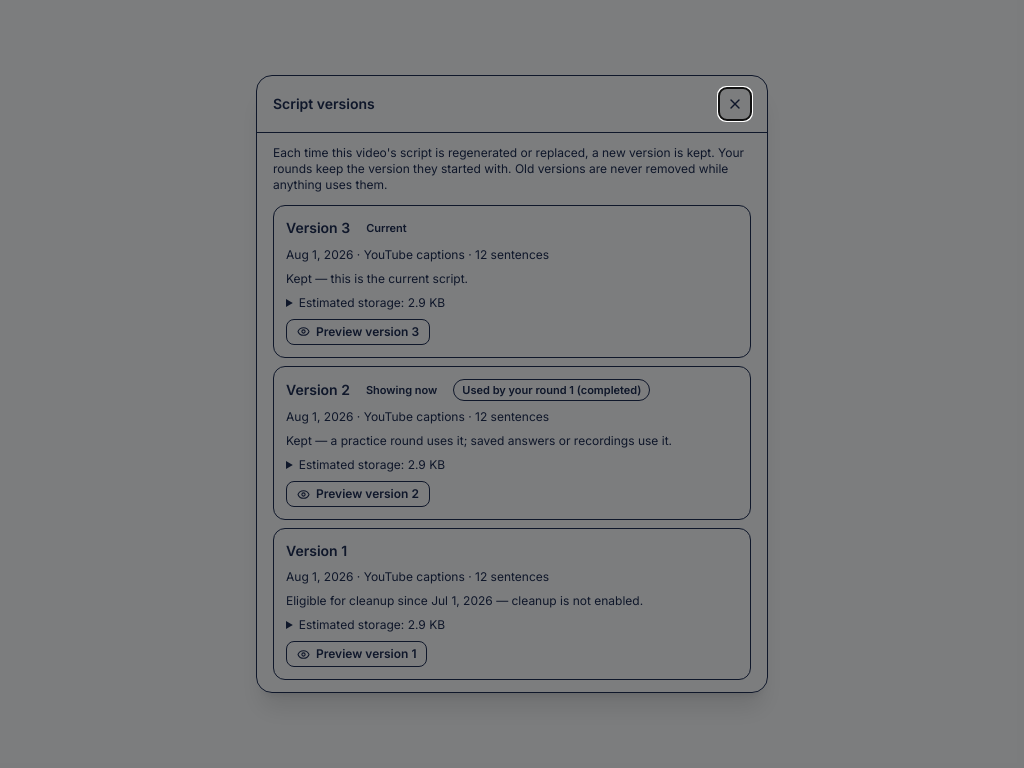
ScriptVersionsDialog › Preview is a read-only fetch of that version's sentences; it can be hidden again
Click the button "Preview version 1": (357, 654) top-left (286, 641), bottom-right (428, 667)
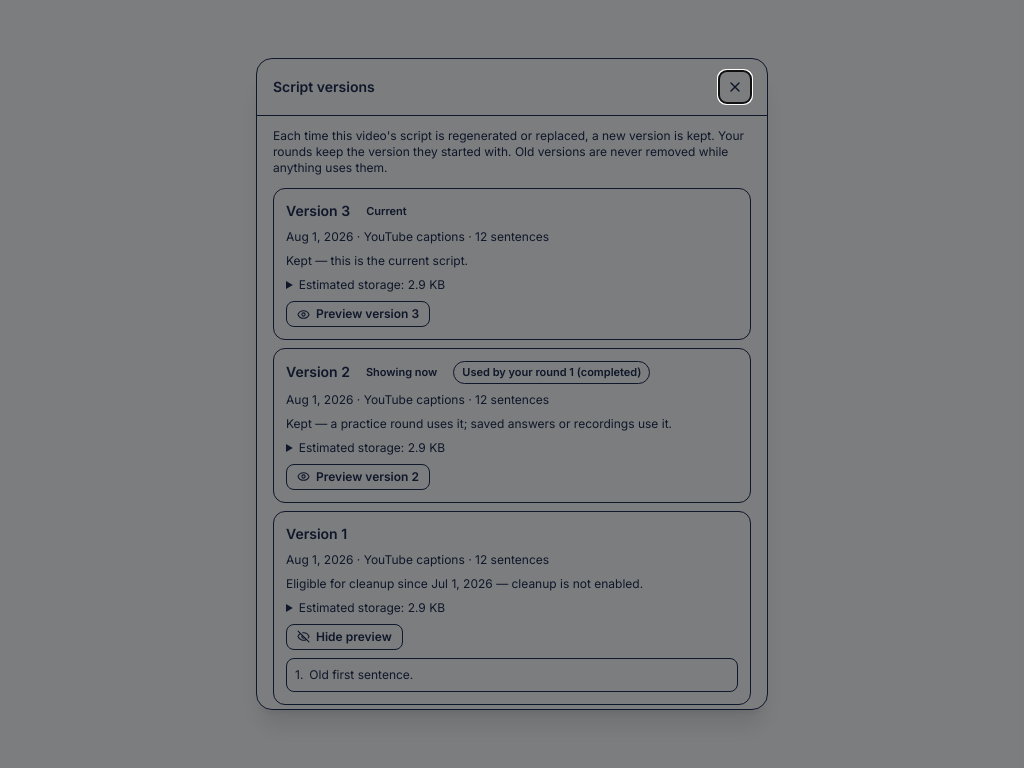
Expected: the list item "Old first sentence." is shown, top-left (309, 667), bottom-right (413, 682)
Click the button "Hide preview": (344, 637) top-left (286, 624), bottom-right (403, 650)
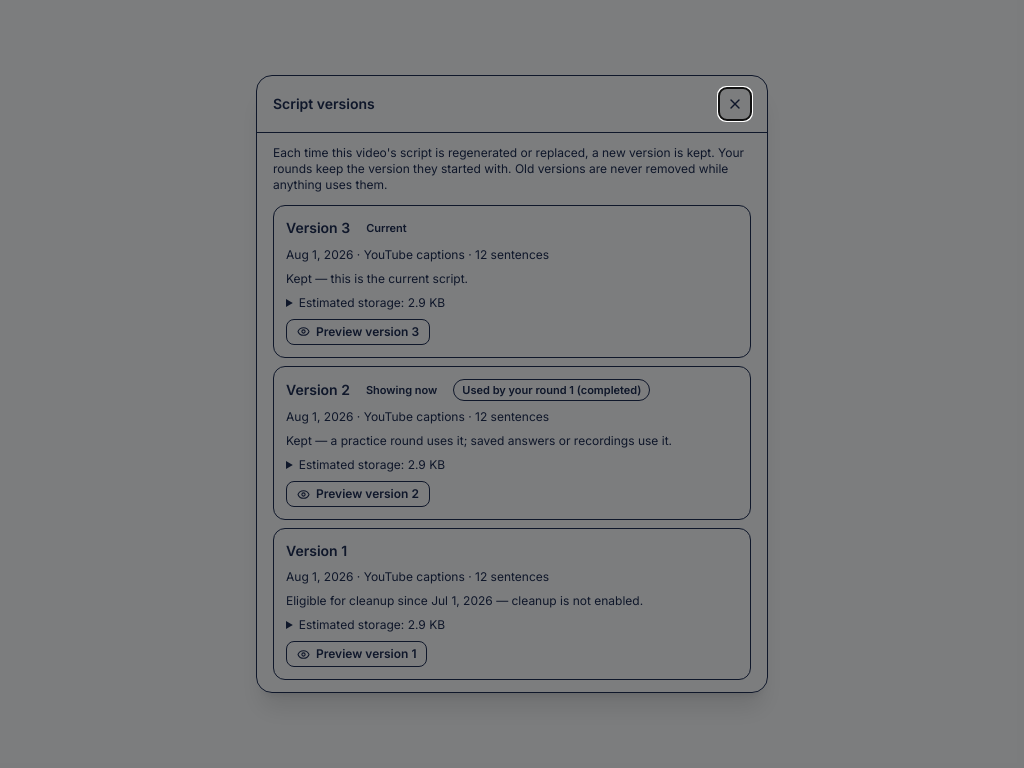
Expected: the list item "Old first sentence." is gone
